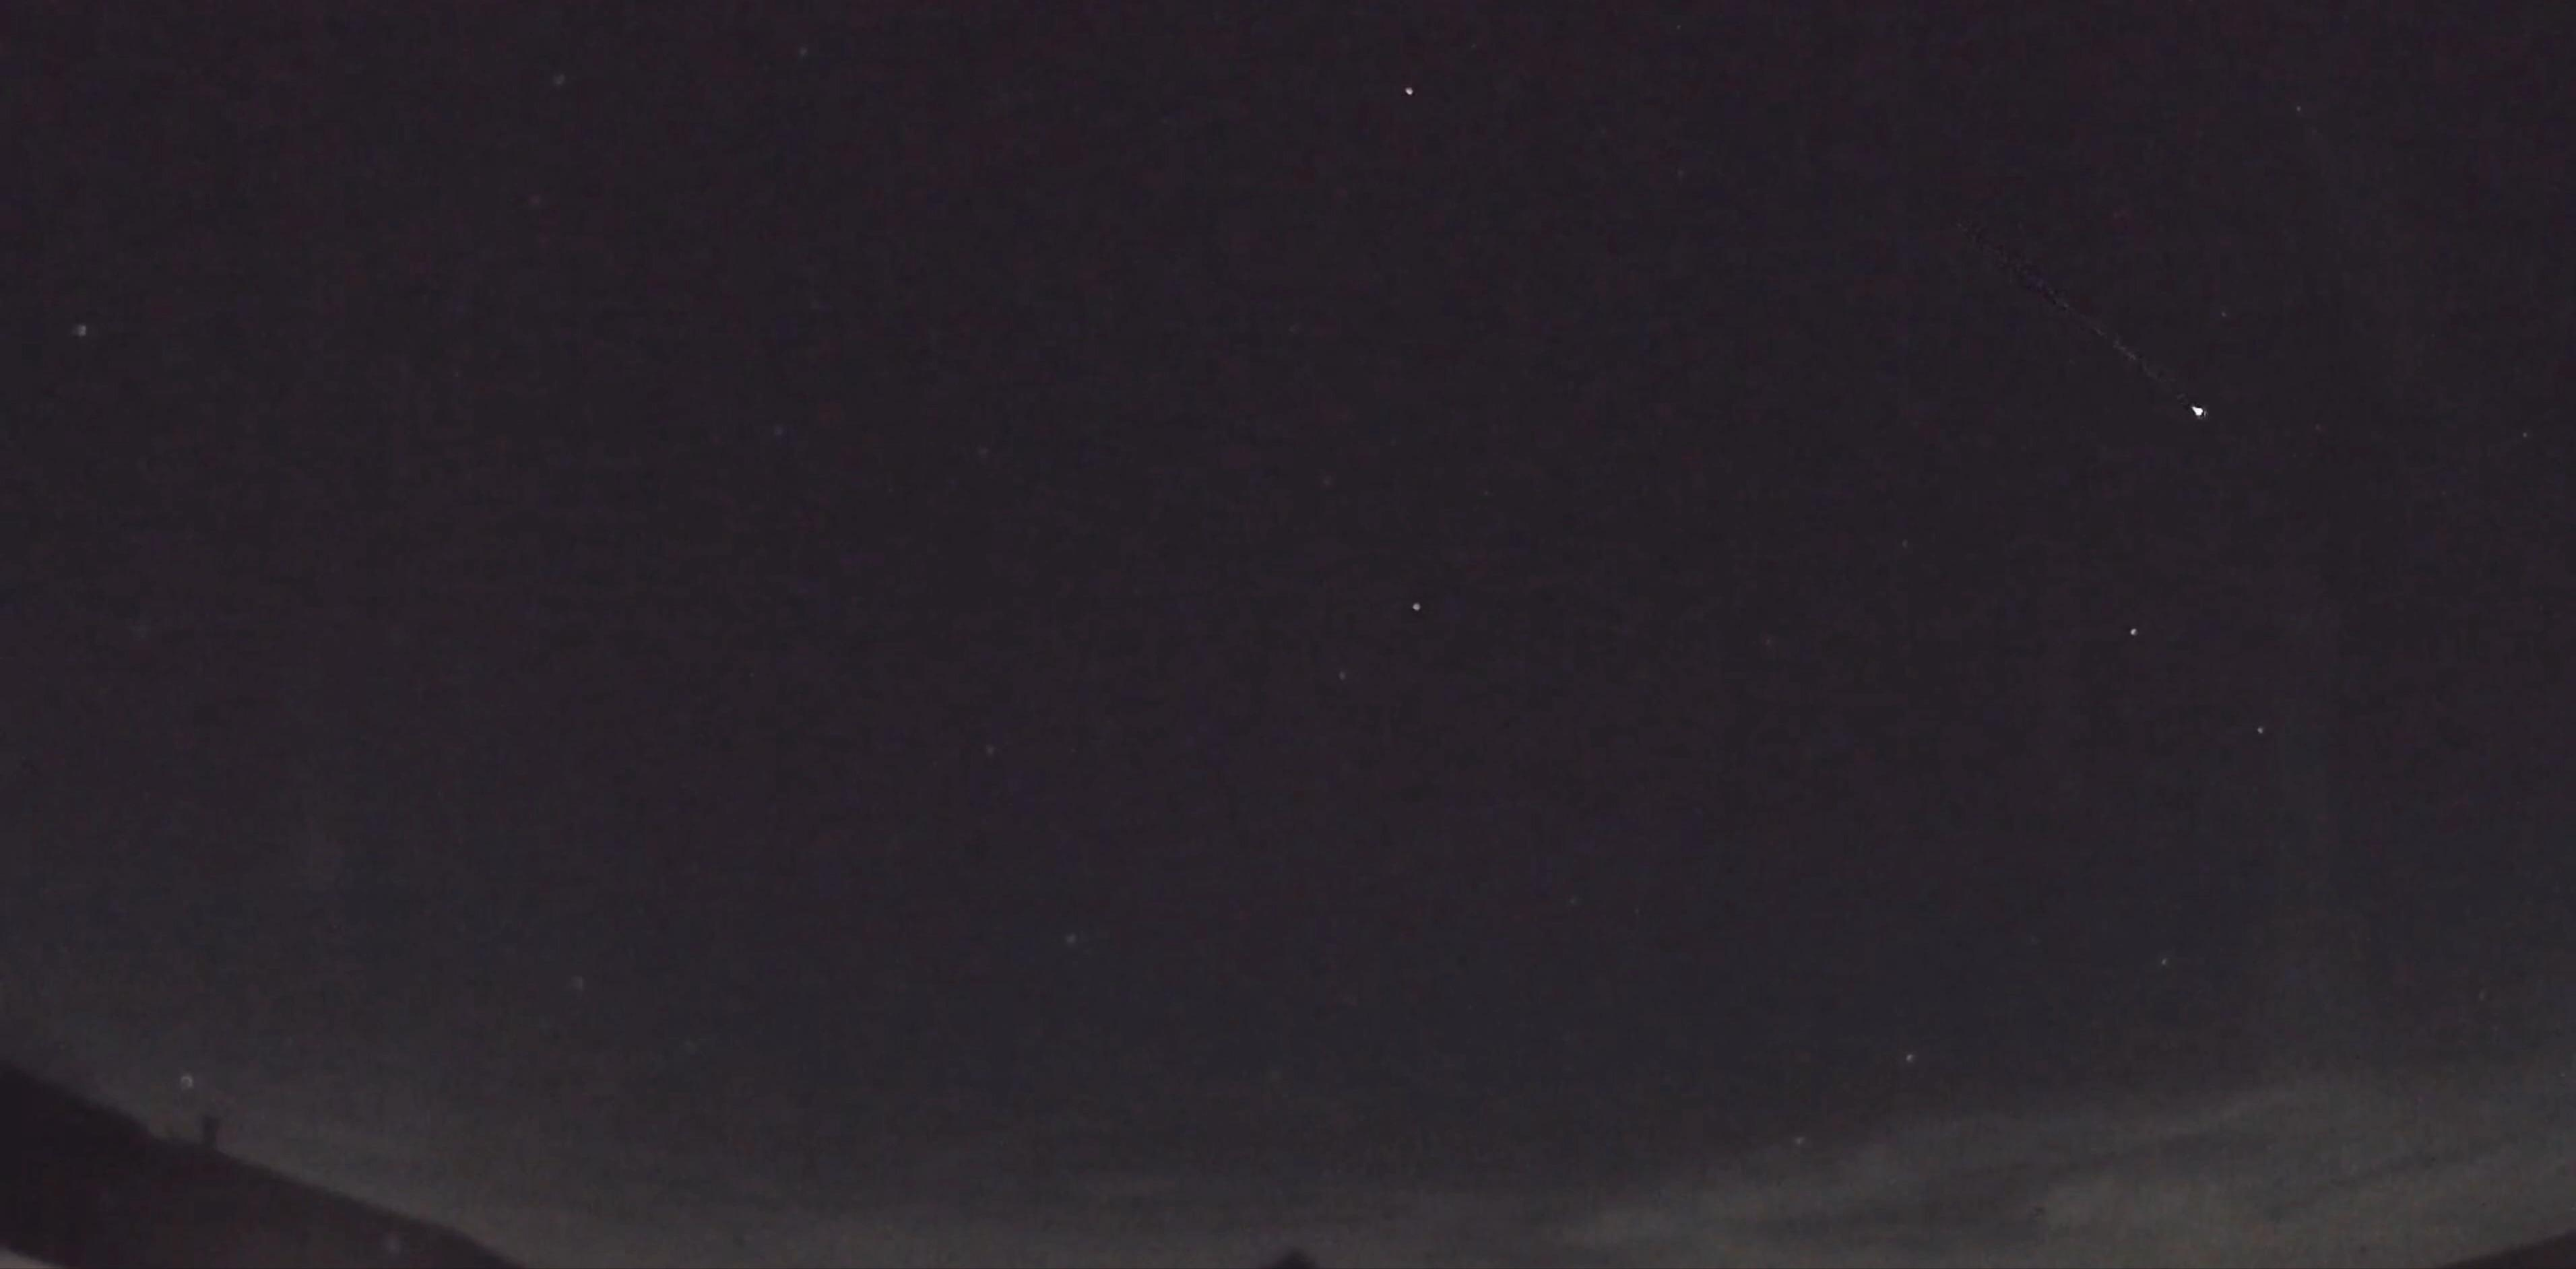meteorite: (2030, 269, 2261, 427)
